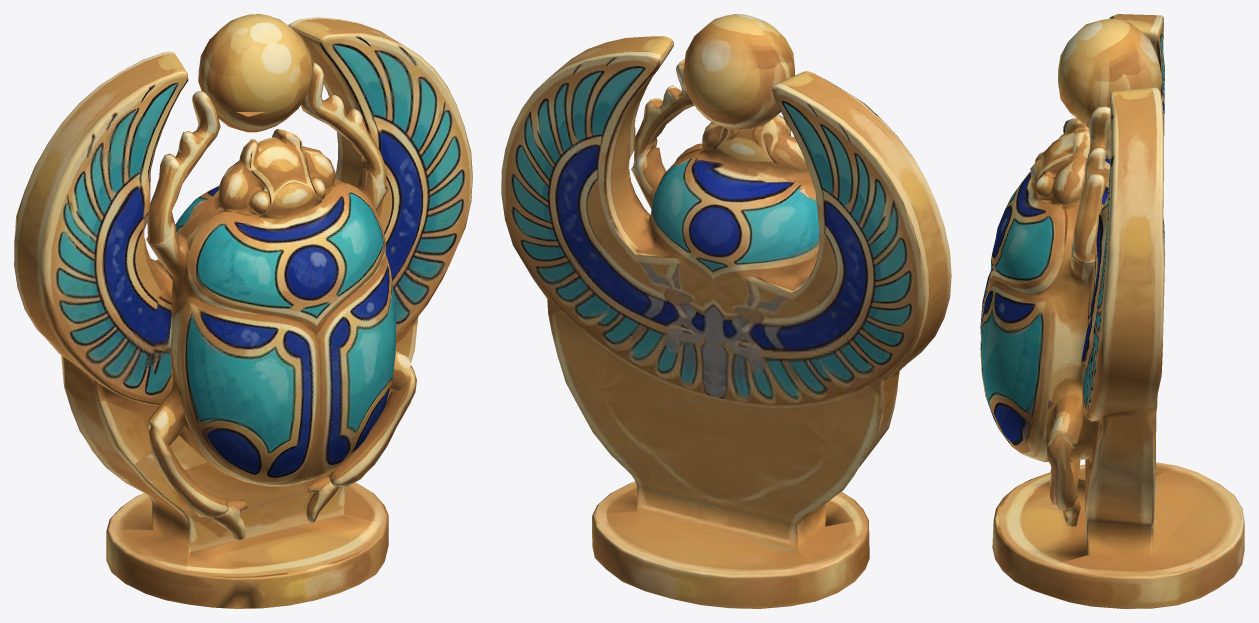
The model's file is scarab.glb.
The picture shows the model from 3 angles, left to right: view 1: azimuth 30°, elevation 25°; view 2: azimuth 150°, elevation 25°; view 3: azimuth 270°, elevation 25°; orthographic projection. The views are drawn at different scales.
Size of the model in its own units: 0.8343 by 1 by 0.4528.
1 material, 1 textured.
